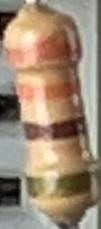Brown: (25, 119, 88, 143)
Orange: (7, 30, 81, 67), (19, 78, 83, 104)
Side-Gold: (27, 169, 101, 199)
